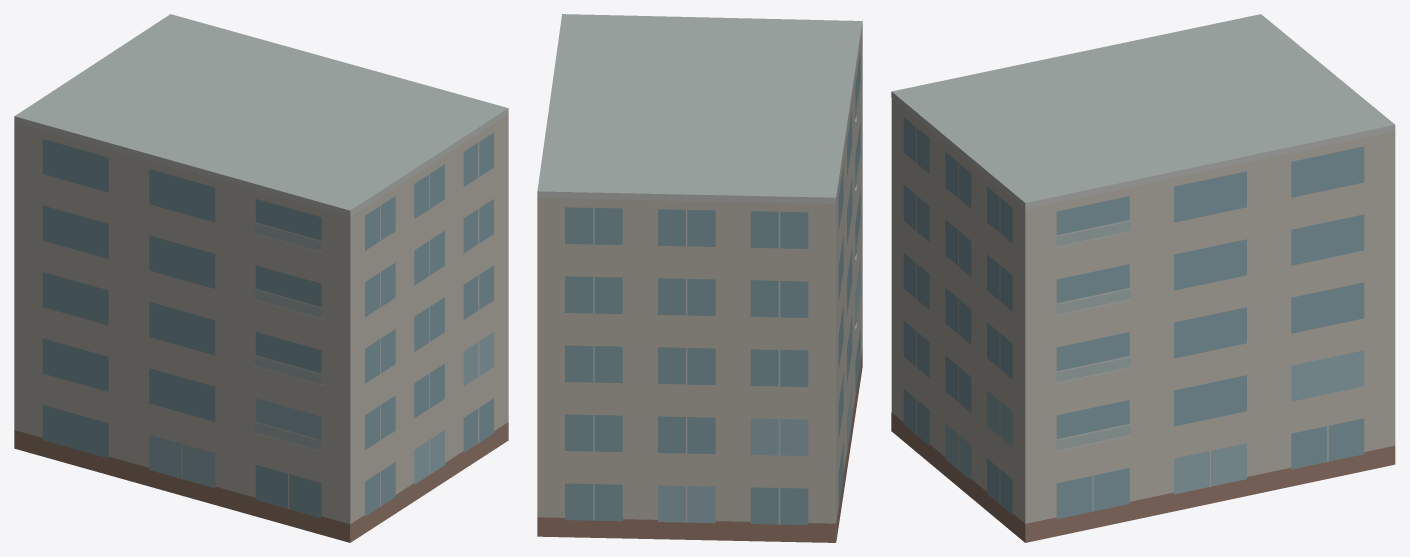
The model's file is survey-upis-32840224.glb.
3 views of the same model, side by side, from view 1: azimuth 30°, elevation 25°; view 2: azimuth 150°, elevation 25°; view 3: azimuth 270°, elevation 25° (orthographic). The views are drawn at different scales.
Visible parts, largest first — view 1: survey-upis-32840224.tmp; view 2: survey-upis-32840224.tmp; view 3: survey-upis-32840224.tmp.
Boxes of the visible parts, box(x1,y1,x2,y2) form: survey-upis-32840224.tmp: box(14, 14, 508, 542); survey-upis-32840224.tmp: box(537, 14, 862, 542); survey-upis-32840224.tmp: box(891, 14, 1395, 542).
Bounding box in the file's own units: 15.7 × 13.15 × 17.68.
